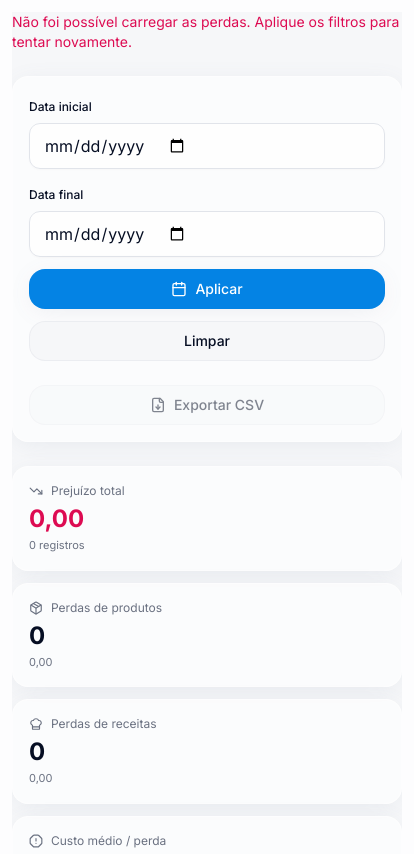
shows loading failures and keeps export unavailable until a successful query
Expected: the message shows "Não foi possível carregar as perdas", [12, 13, 400, 50]
Expected: the button "Exportar CSV" is disabled, [29, 385, 385, 425]
Click the button "Aplicar".
click(207, 289)  # box [29, 269, 385, 309]
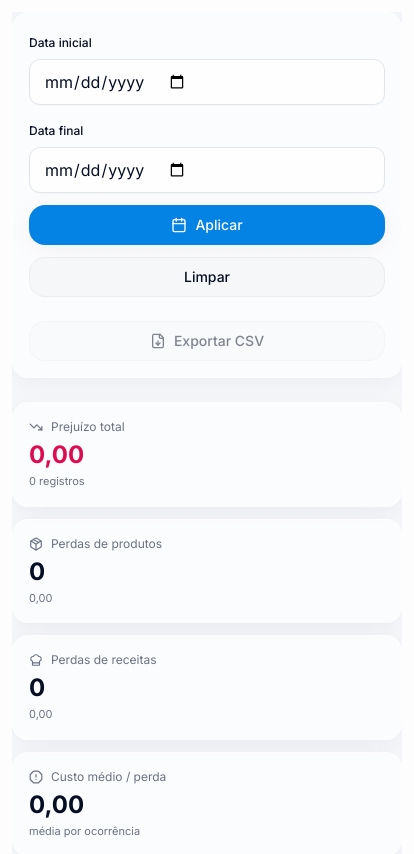
Expected: the message "Não foi possível carregar as perdas. Aplique os filtros para tentar novamente." is gone
